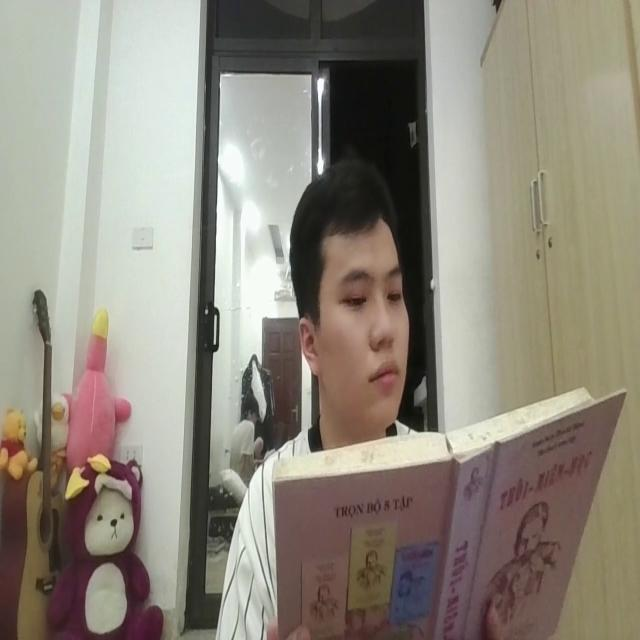book: (274, 382, 628, 640)
student: (248, 159, 436, 450)
